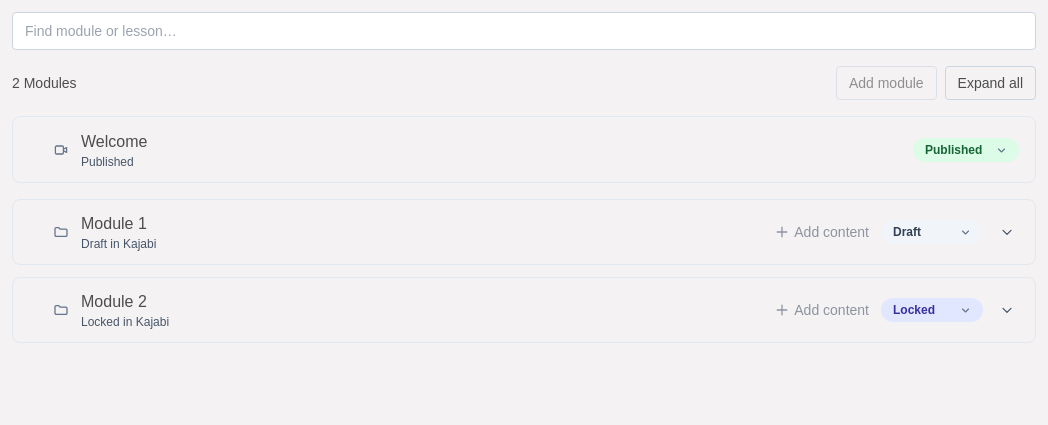
Test case: BuilderOutline › shows lessons that sit in no module, and links each lesson to its builder page
The image size is (1048, 425).
expect the text "Welcome" is shown: met, box [81,133,147,150]
Step 1. Click the button named "Expand Module 2" → x=1007, y=310, box [995,298,1019,322]
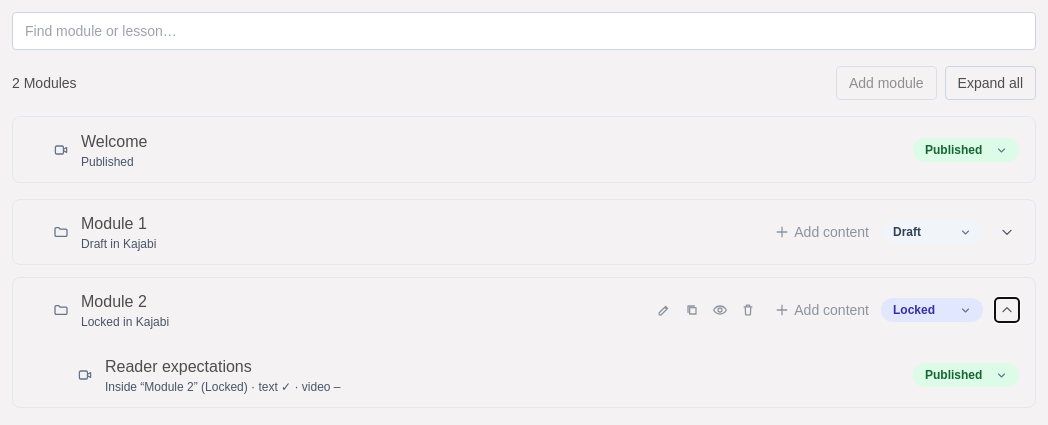
expect the text "text ✓ · video –" is shown: met, box [248,380,340,394]
